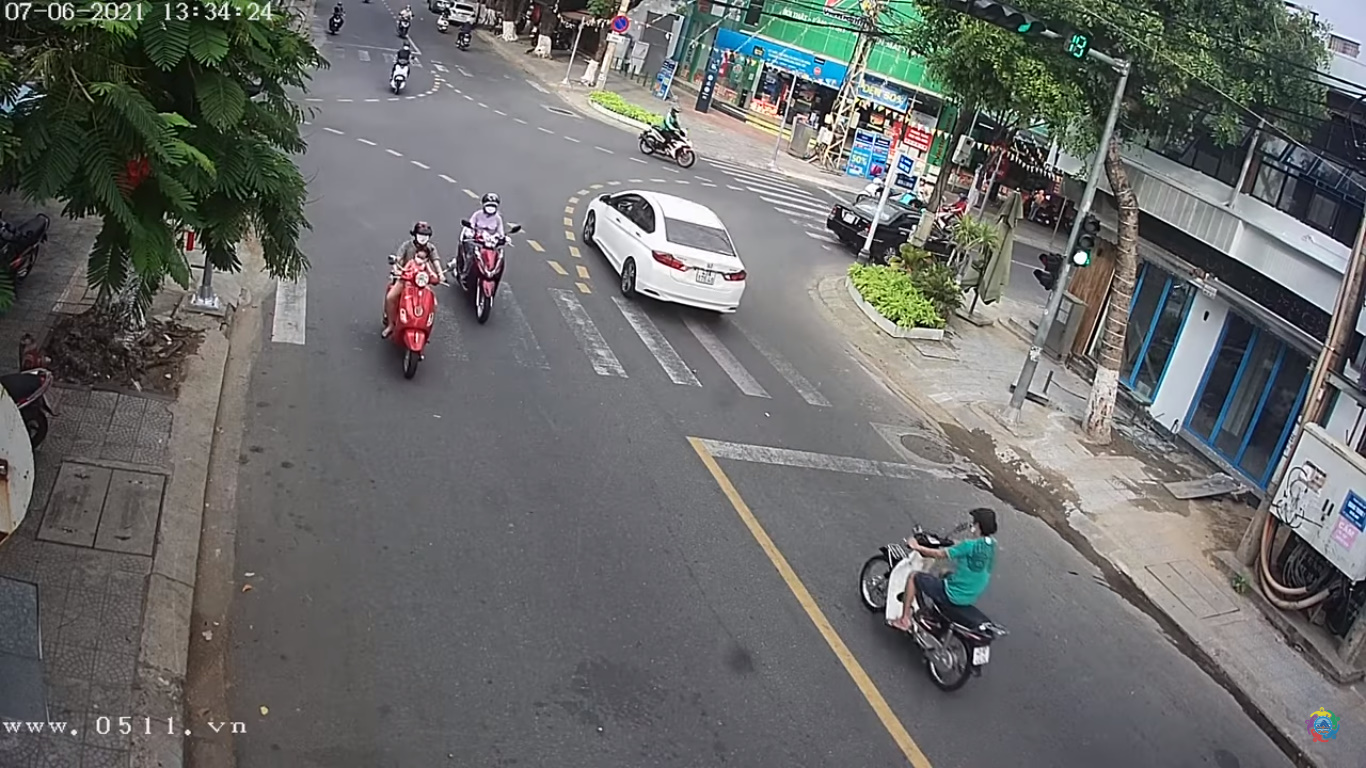motorbike: (380, 227, 447, 373), (454, 204, 515, 318)
